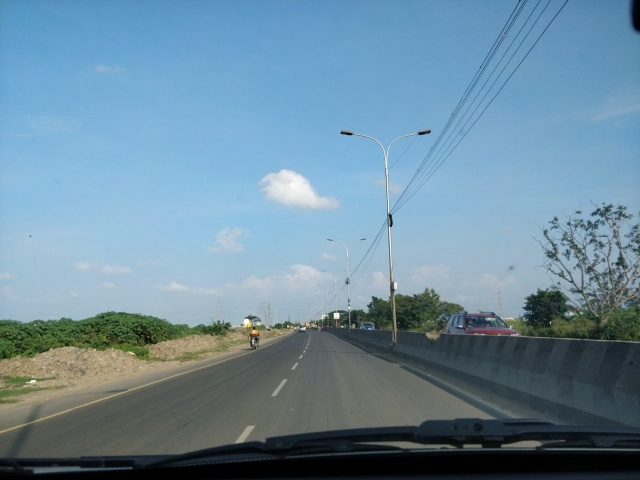car: (448, 312, 523, 339), (359, 320, 379, 331), (296, 322, 309, 334)
motorbike: (246, 327, 263, 350)
